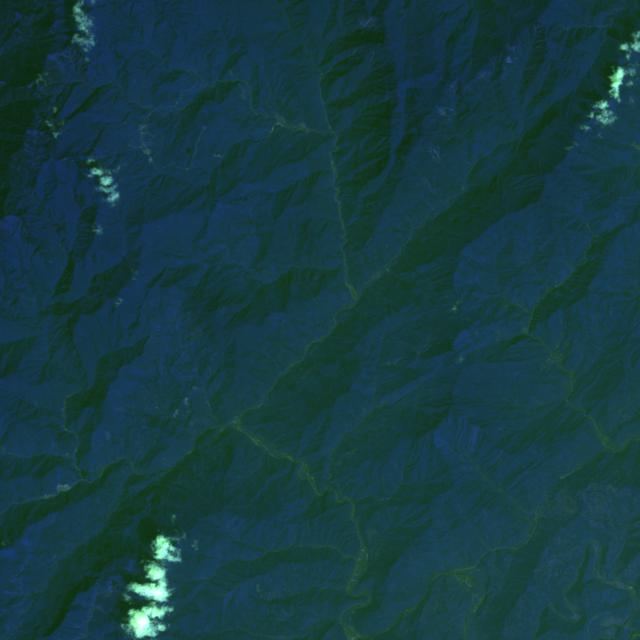landslides: (436, 106, 452, 118), (60, 52, 74, 65), (506, 55, 519, 68), (69, 200, 82, 213), (445, 106, 457, 116), (189, 423, 201, 433), (433, 147, 441, 161), (441, 97, 456, 104), (58, 178, 71, 186)
